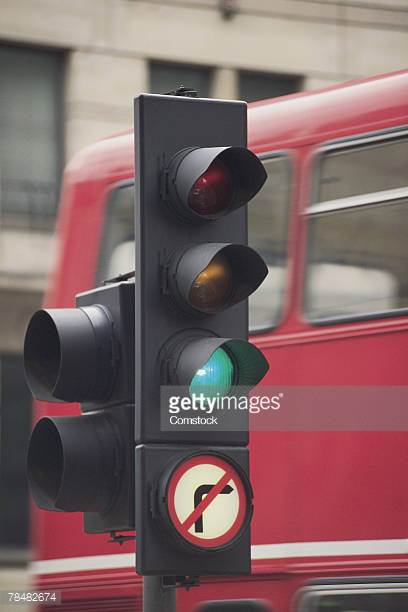No_right_turn: (167, 452, 249, 549)
